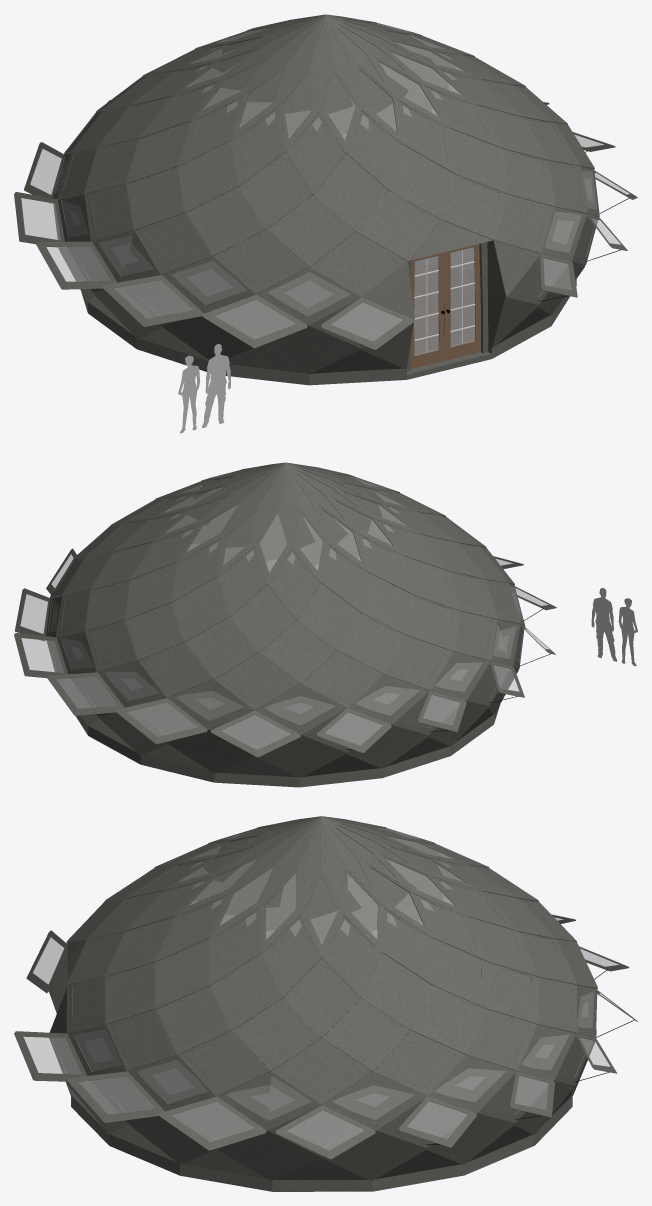
File: zomes-700-draco.glb
The picture shows the model from 3 angles, top to bottom: view 1: azimuth 30°, elevation 25°; view 2: azimuth 150°, elevation 25°; view 3: azimuth 270°, elevation 25°; orthographic projection. The views are drawn at different scales.
Parts seen in each view (by area): view 1: maindoor, entry-center-C-7, entry-center-C-6, floor, entry-center-C-4, foundation, window-glass-C-3_open, window-glass-C-2_open, panel-F-2, window-glass-D-1, panel-F-1, panel-E-1 (+91 smaller); view 2: maindoor, entry-center-C-7, entry-center-C-6, entry-center-C-8, entry-center-C-5, window-glass-C-8_open, panel-F-7, window-glass-C-7_open, foundation, window-glass-C-9_open, panel-F-8, panel-E-7 (+93 smaller); view 3: maindoor, entry-center-C-12, entry-center-C-11, window-glass-C-13_open, window-glass-C-14_open, panel-F-12, foundation, panel-F-13, window-glass-C-12_open, panel-F-11, panel-E-12, window-glass-D-12 (+106 smaller).
Part boxes in pixels (x1,y1,x2,y2): maindoor: (59, 220, 585, 379); entry-center-C-7: (410, 244, 480, 368); entry-center-C-6: (55, 166, 487, 370); floor: (414, 263, 473, 353); entry-center-C-4: (60, 194, 505, 379); foundation: (81, 281, 576, 385); window-glass-C-3_open: (102, 275, 204, 326); window-glass-C-2_open: (202, 295, 307, 348); panel-F-2: (267, 195, 355, 266); window-glass-D-1: (257, 267, 360, 324); panel-F-1: (356, 191, 440, 260); panel-E-1: (310, 232, 407, 296); maindoor: (79, 668, 518, 782); entry-center-C-7: (169, 679, 382, 782); entry-center-C-6: (255, 674, 450, 782); entry-center-C-8: (88, 660, 299, 782); entry-center-C-5: (346, 652, 493, 771); window-glass-C-8_open: (116, 698, 207, 744); panel-F-7: (259, 620, 337, 683); window-glass-C-7_open: (211, 711, 300, 757); foundation: (75, 704, 500, 787); window-glass-C-9_open: (47, 672, 124, 716); panel-F-8: (185, 617, 258, 678); panel-E-7: (214, 653, 299, 709); maindoor: (48, 939, 594, 1186); entry-center-C-12: (180, 1071, 426, 1185); entry-center-C-11: (272, 1055, 516, 1186); window-glass-C-13_open: (159, 1096, 266, 1150); window-glass-C-14_open: (67, 1071, 164, 1122); panel-F-12: (322, 998, 410, 1070); foundation: (71, 1096, 572, 1191); panel-F-13: (232, 998, 321, 1070); window-glass-C-12_open: (275, 1105, 375, 1159); panel-F-11: (412, 985, 487, 1054); panel-E-12: (272, 1038, 371, 1104); window-glass-D-12: (220, 1071, 321, 1129).
Size of the model in its own units: 12.38 by 5.76 by 12.09.
Materials: 11 (5 with a texture image).
